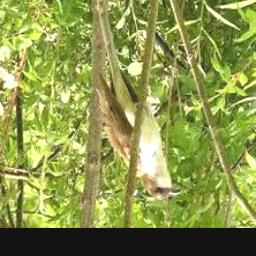Cuckoo: (96, 0, 182, 201)
